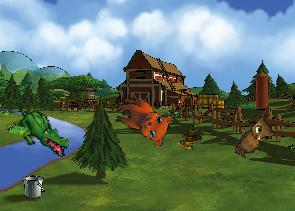bear: (109, 95, 175, 148)
crocodile: (8, 105, 76, 158)
owl: (232, 112, 280, 166)
